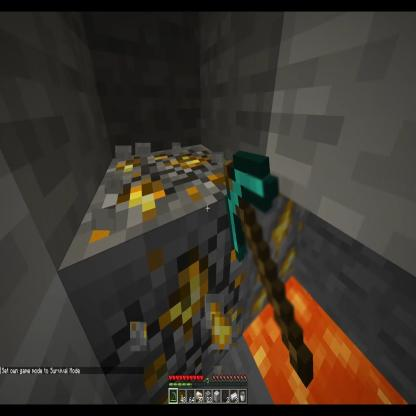gold ore: (76, 140, 253, 416), (244, 173, 311, 335)
